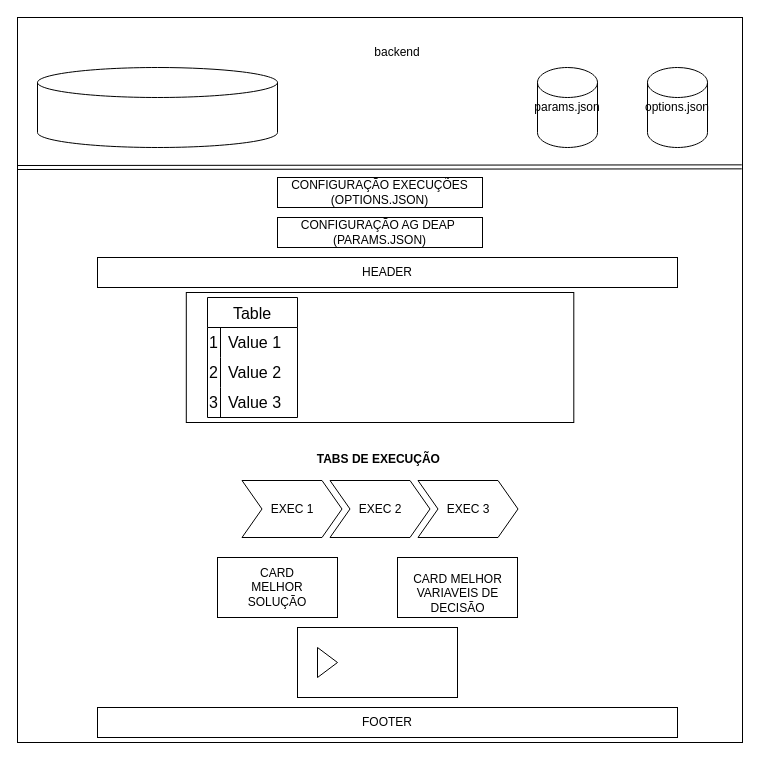
Some shapes in this 760 by 760 pixel diagram are drawn without their labels. The box of each missing label's shape, as (x1, y1, x2, y2) in pixels:
GRAFICO RCE: (296, 626, 458, 698)
RESULTADOS_CONSOLIDADOS.XLSX: (36, 66, 278, 148)
TABELAS TEMPO DE EXECUÇÃO RESULTADOS: (185, 292, 574, 422)
